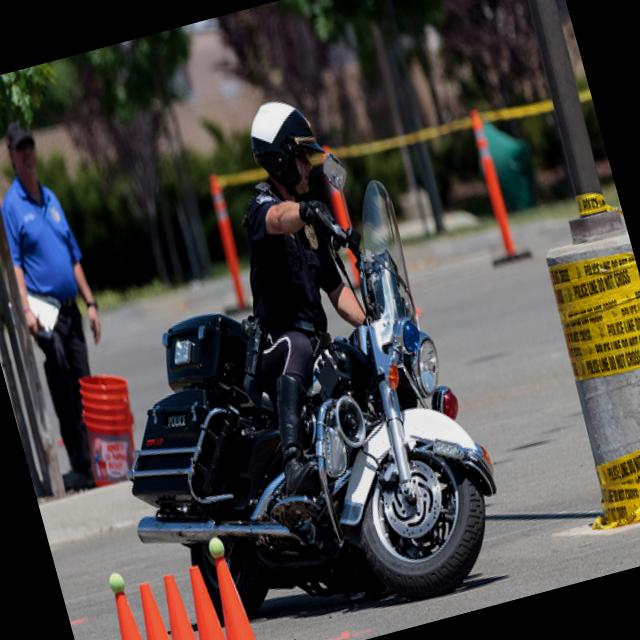Vehicle: (50, 127, 522, 640)
